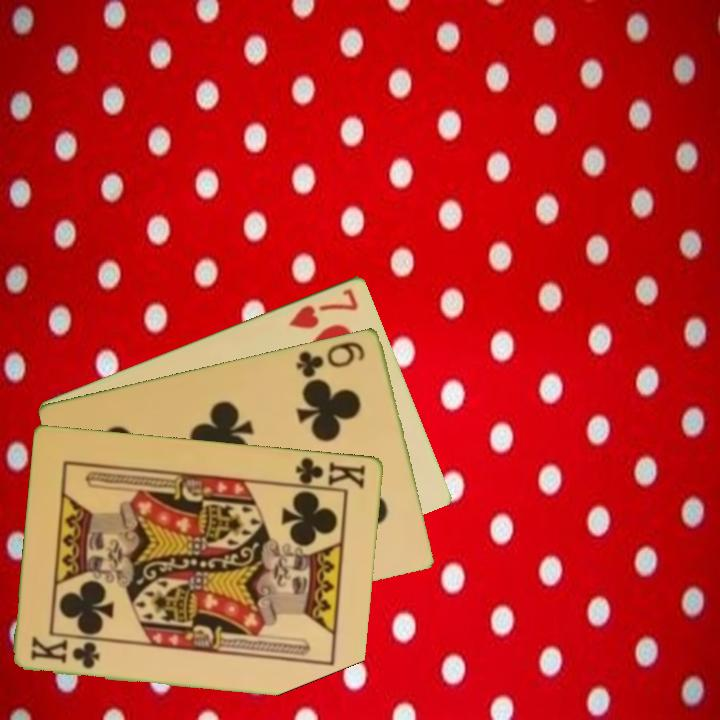6c: (292, 337, 369, 380)
7h: (285, 284, 362, 332)
Kc: (287, 453, 369, 492), (28, 633, 103, 671)
